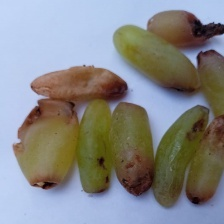grapes: (4, 35, 189, 219)
